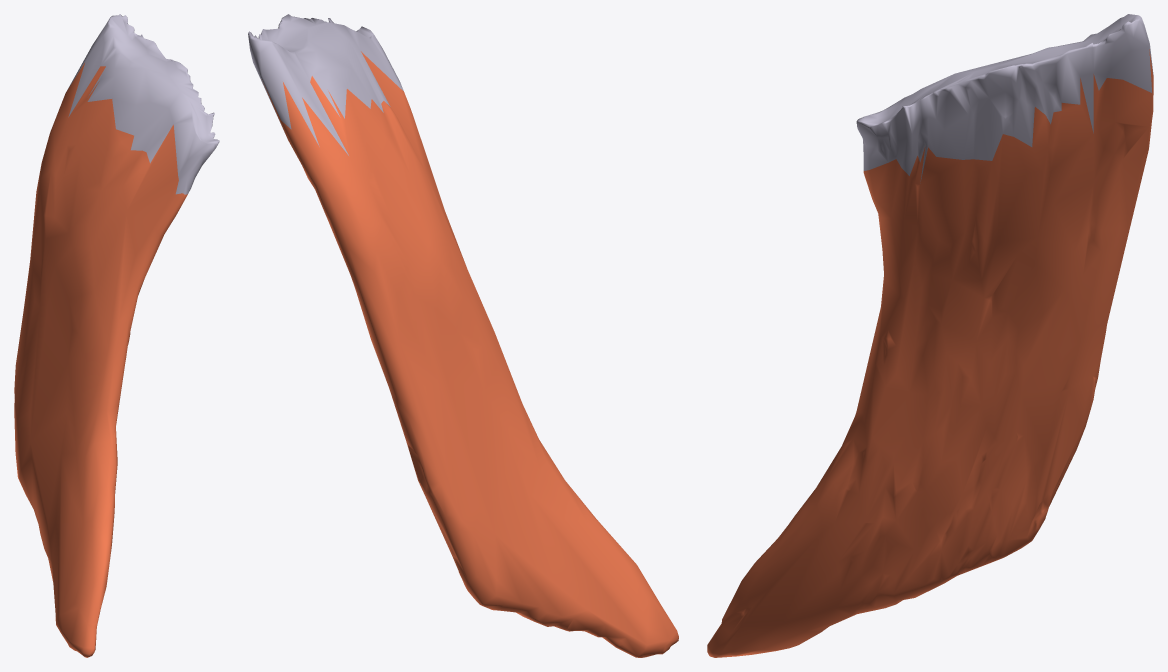
Rendered from Deep_part_of_masseter.l_Generated_Mesh_From_X3D.988.glb.
The picture shows the model from 3 angles, left to right: view 1: azimuth 30°, elevation 25°; view 2: azimuth 150°, elevation 25°; view 3: azimuth 270°, elevation 25°; orthographic projection. The views are drawn at different scales.
Parts seen in each view (by area): view 1: Deep_part_of_masseter.l_Generated_Mesh_From_X3D.988; view 2: Deep_part_of_masseter.l_Generated_Mesh_From_X3D.988; view 3: Deep_part_of_masseter.l_Generated_Mesh_From_X3D.988.
Part boxes in pixels (box(x1,y1,x2,y2)): Deep_part_of_masseter.l_Generated_Mesh_From_X3D.988: box(14, 14, 219, 657); Deep_part_of_masseter.l_Generated_Mesh_From_X3D.988: box(248, 14, 678, 657); Deep_part_of_masseter.l_Generated_Mesh_From_X3D.988: box(707, 14, 1153, 657).
Bounding box in the file's own units: 0.027 × 0.0655 × 0.0346.
